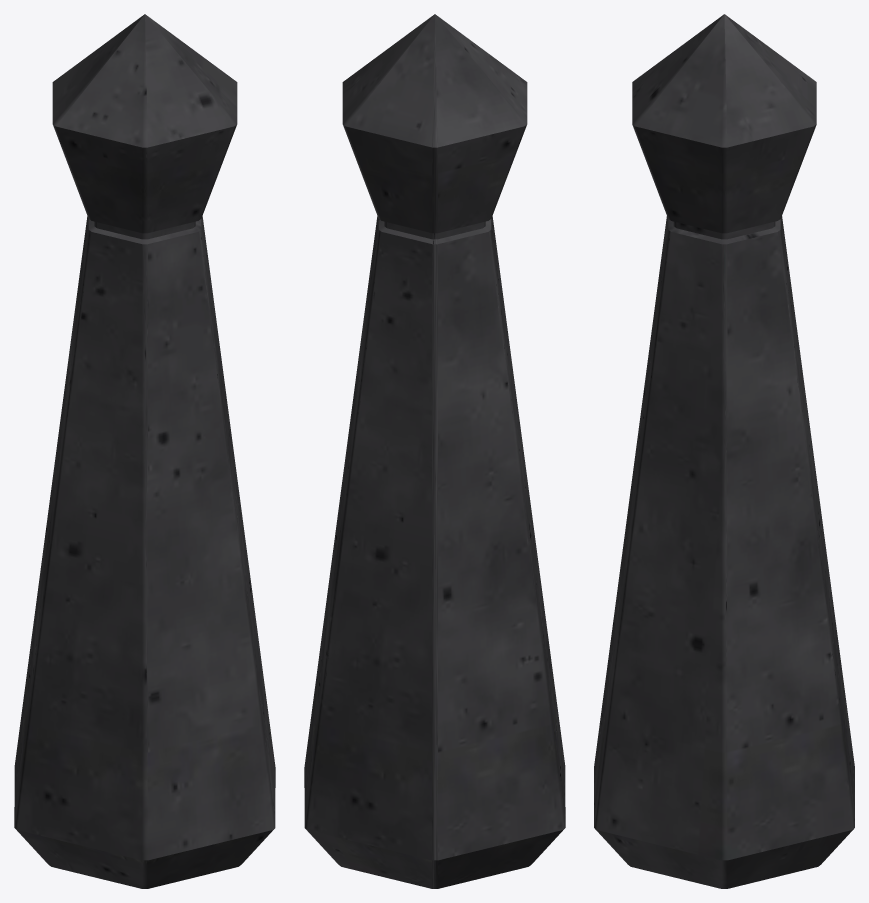
Rendered from hexalith_black_king.glb.
The picture shows the model from 3 angles, left to right: view 1: azimuth 30°, elevation 25°; view 2: azimuth 150°, elevation 25°; view 3: azimuth 270°, elevation 25°; orthographic projection.
Visible parts, largest first — view 1: HEXALITH_black_king; view 2: HEXALITH_black_king; view 3: HEXALITH_black_king.
Boxes of the visible parts, x1,y1,x2,y2 form: HEXALITH_black_king: (14, 14, 275, 888); HEXALITH_black_king: (304, 14, 565, 888); HEXALITH_black_king: (594, 14, 854, 888).
Bounding box in the file's own units: 0.0307 × 0.094 × 0.0268.
1 material, 1 textured.
